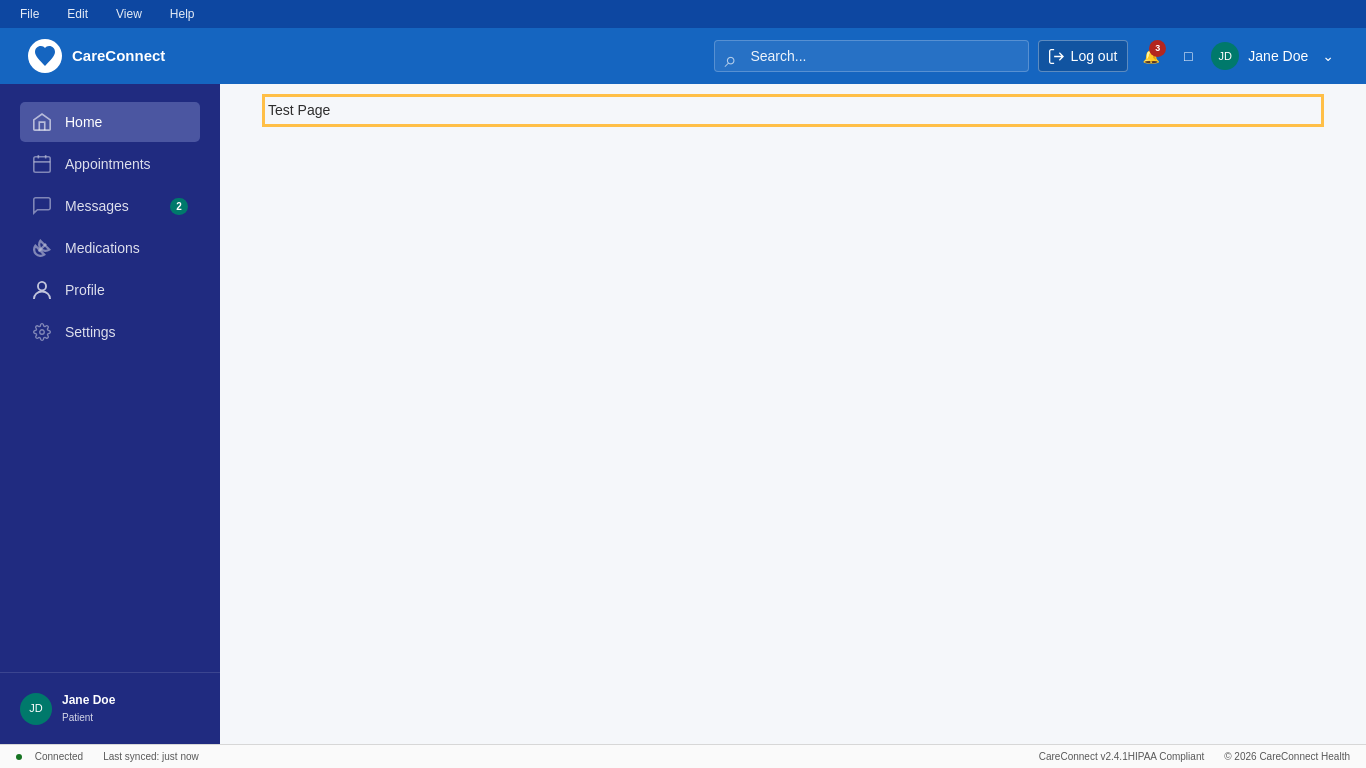
Test case: Shell › notifications panel opens
Click the button named "Notifications, 3 unread": (1151, 56) [1137,42,1165,70]
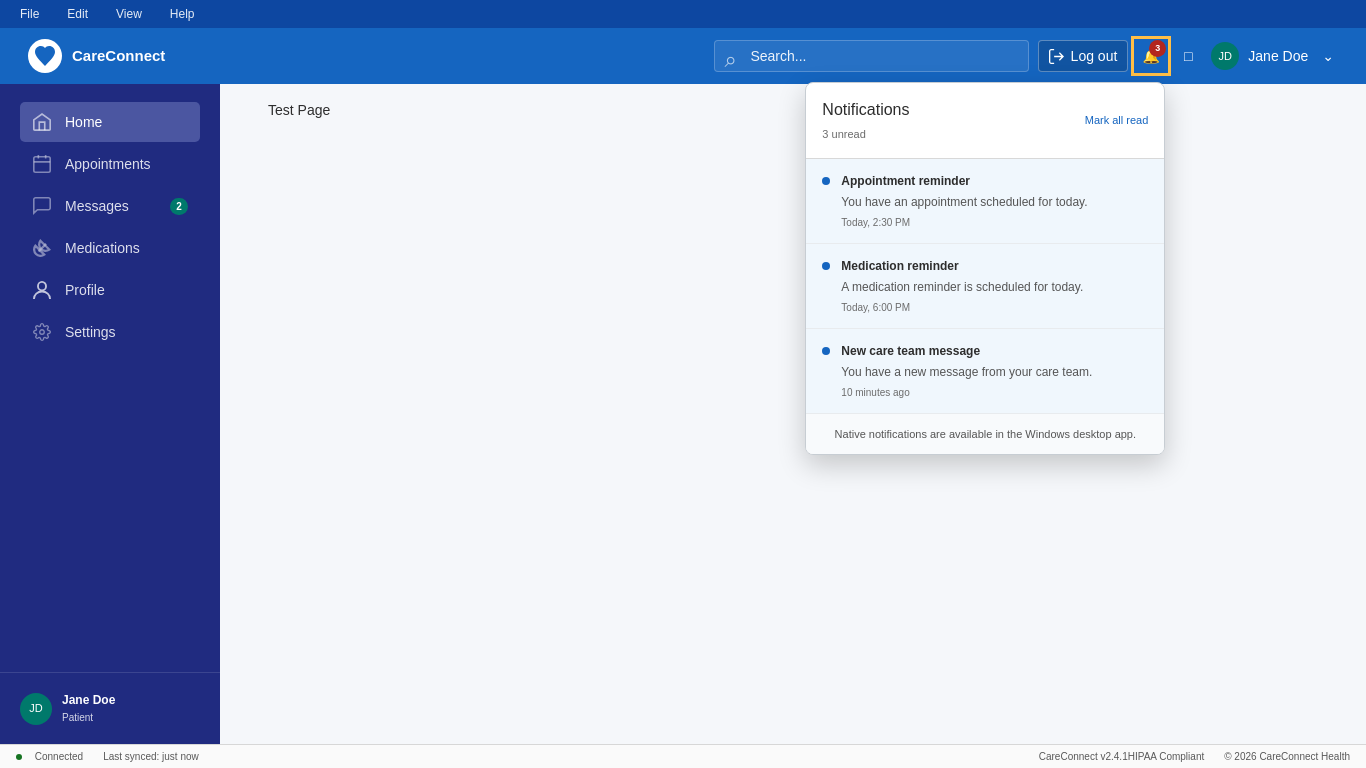
expect the dialog "Notifications" is shown: met, box [805,82,1165,454]
expect the text "Appointment reminder" is shown: met, box [841,174,970,188]
expect the text "Medication reminder" is shown: met, box [841,258,959,272]
